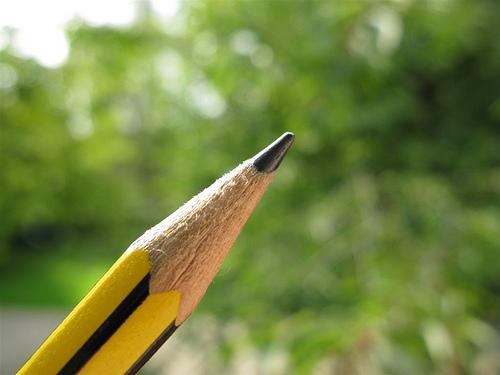pen_tip: (123, 128, 302, 306)
